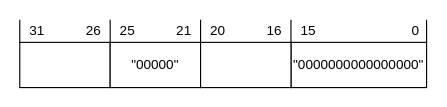
Image size: 447x107. Some labels were removed from this diagram. Each missing label, with the centre of its shape:
opcode(6): pixel 64 64
rd: pixel 245 64
